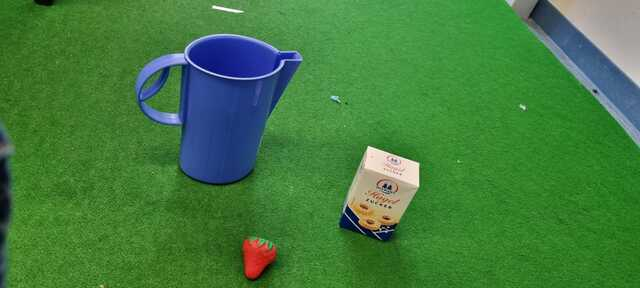004_sugar_box: (339, 146, 422, 243)
012_strawberry: (242, 235, 277, 279)
019_pitcher_base: (135, 32, 304, 185)
